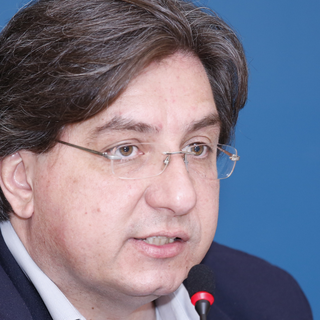eye: (93, 139, 151, 167), (177, 134, 216, 165)
